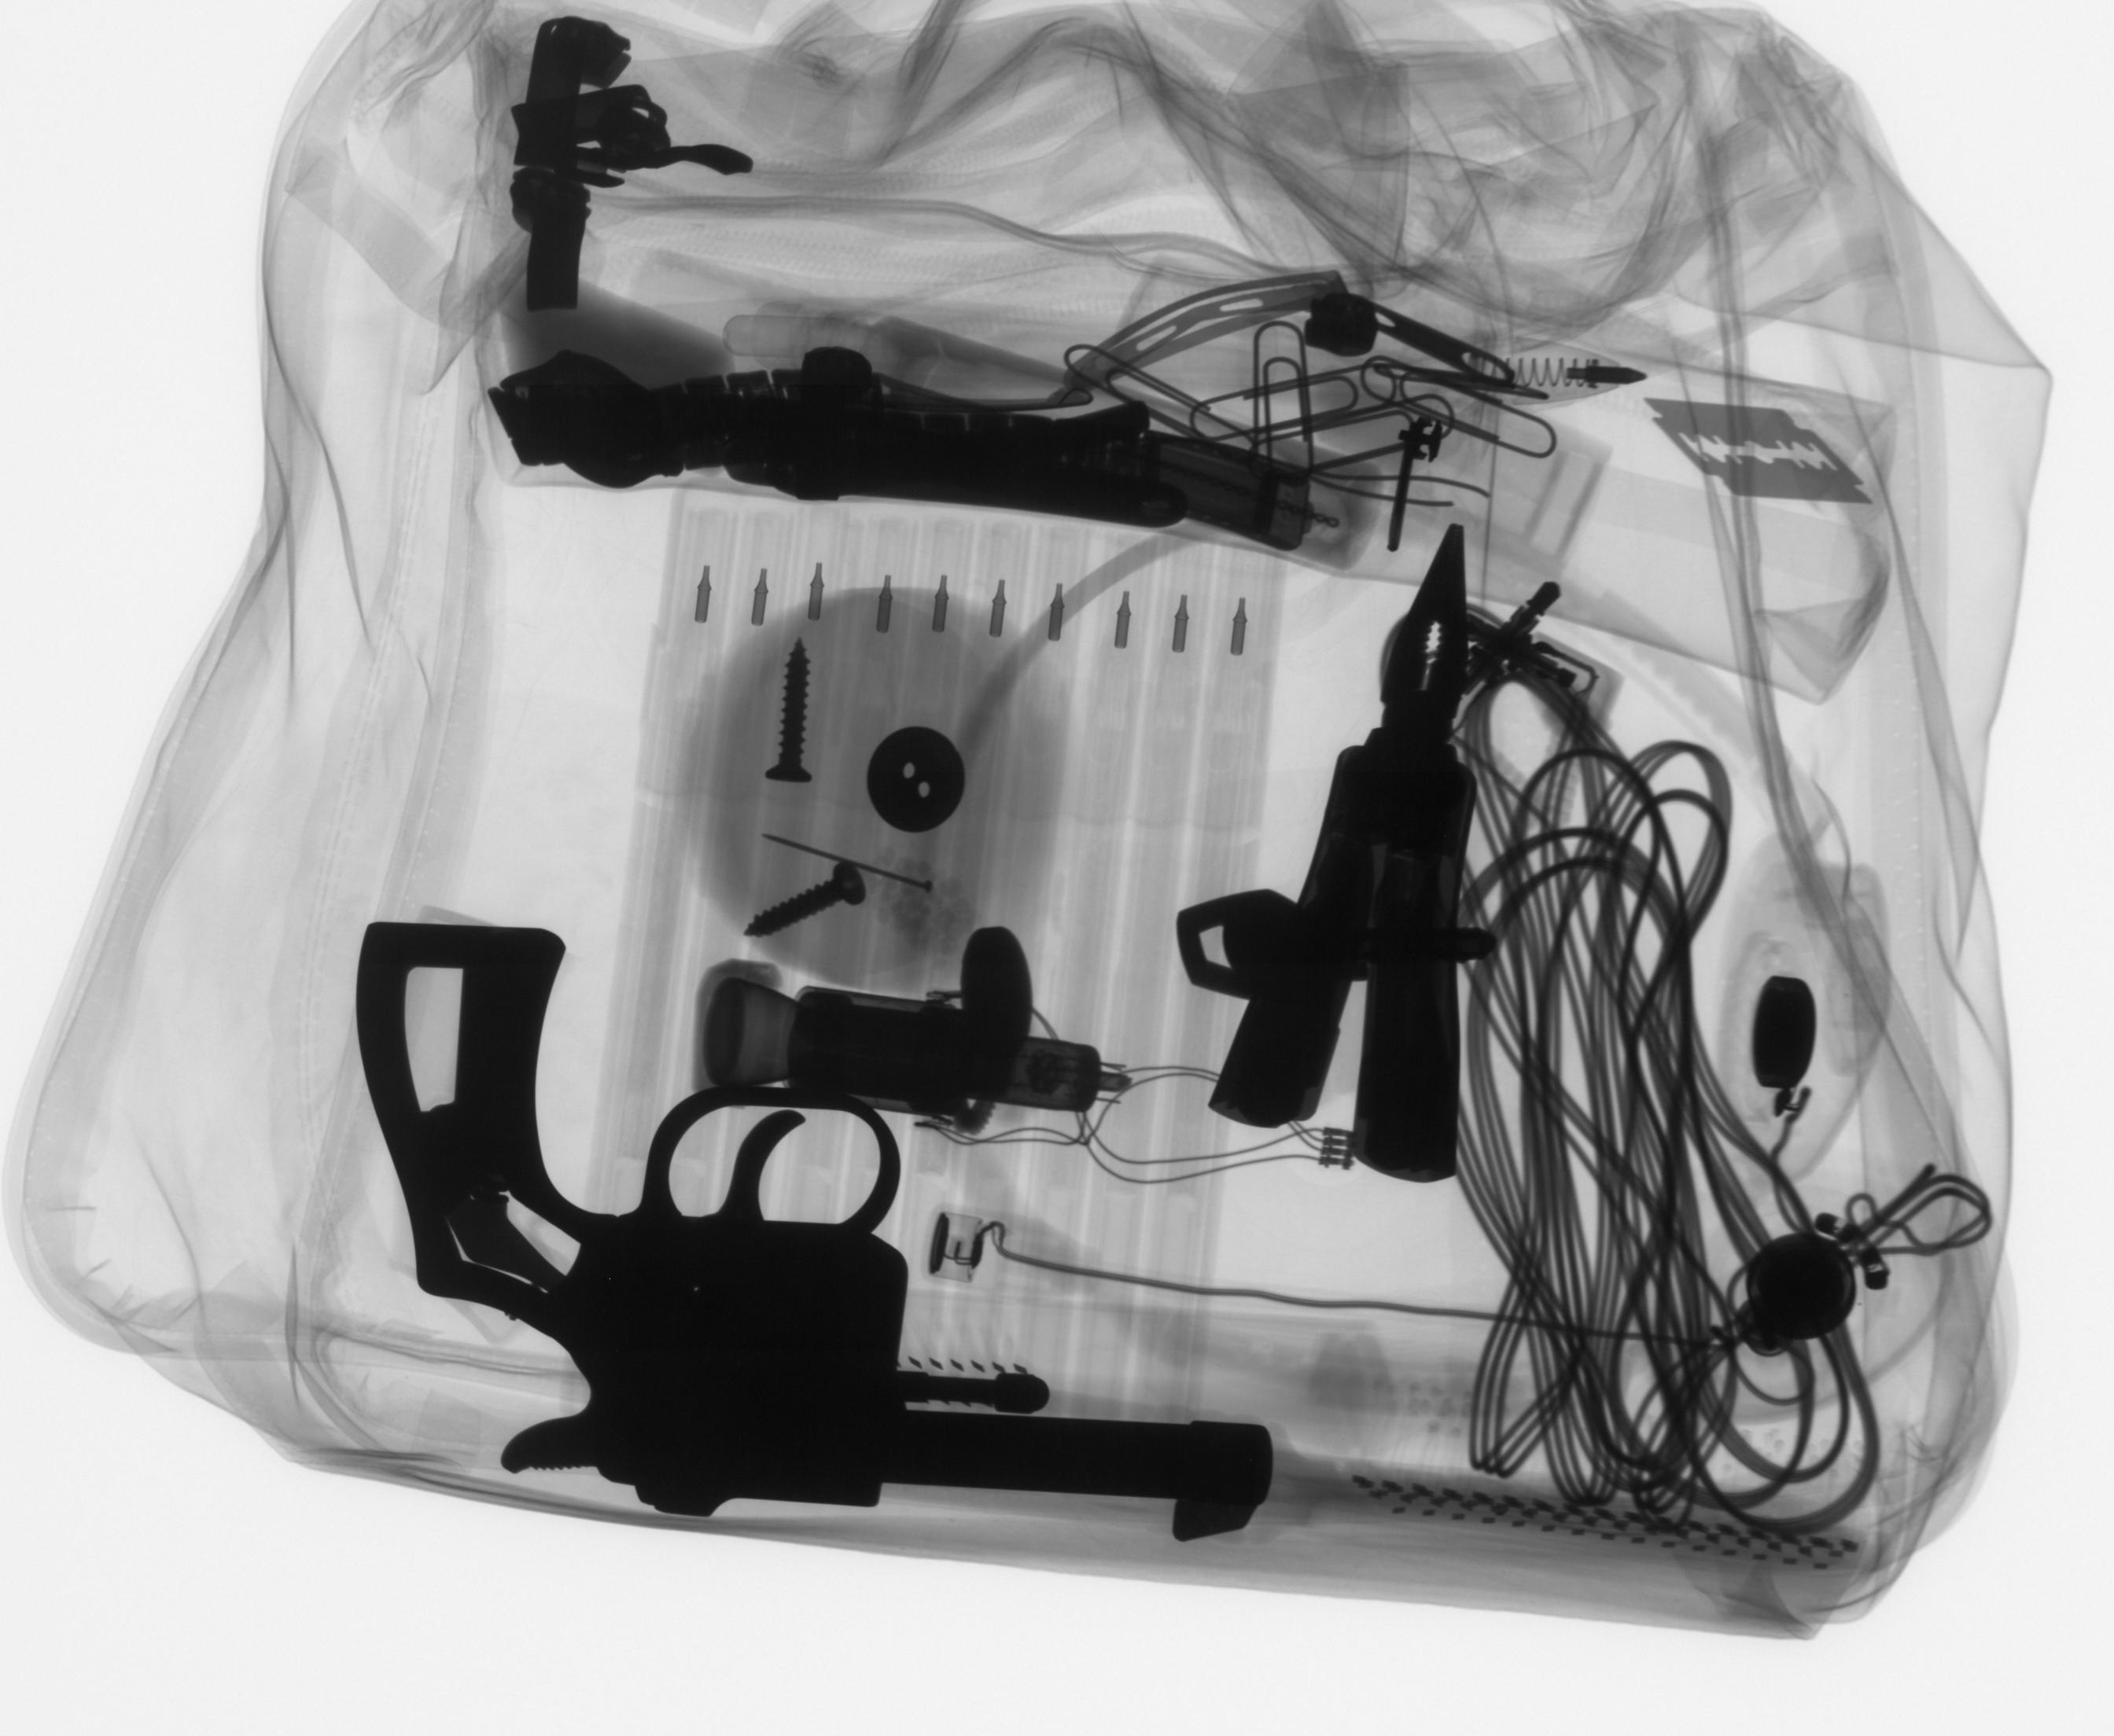Handgun: (330, 909, 1313, 1582)
RazorBlade: (1626, 386, 1898, 528)
